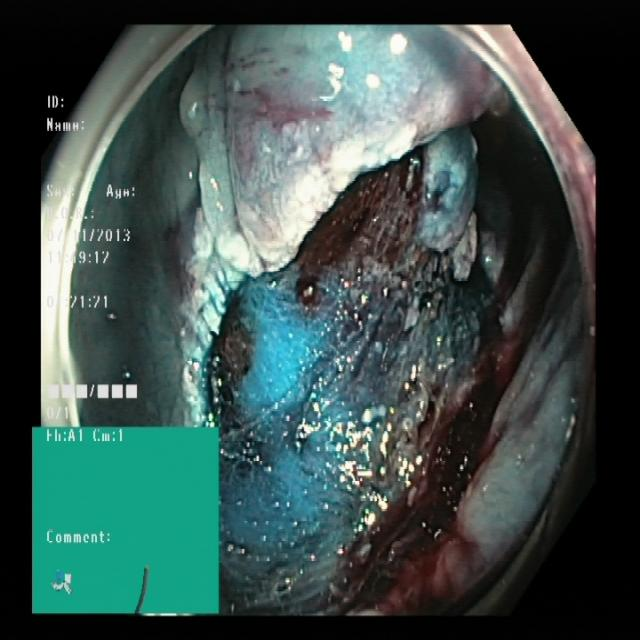dyed-resection-margins: (177, 72, 601, 615)
